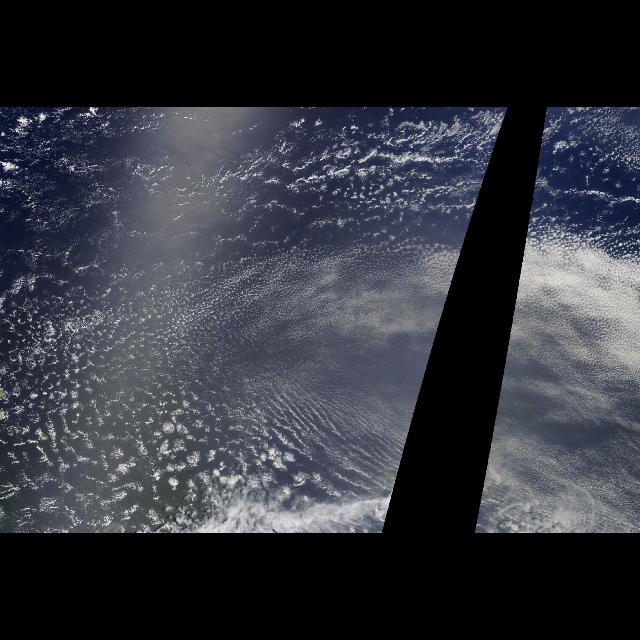Sugar: (0, 268, 458, 528), (474, 268, 636, 528), (215, 111, 509, 212), (530, 111, 640, 212)
